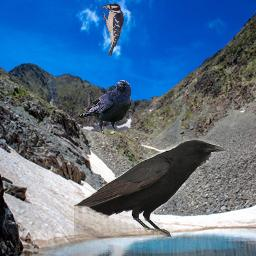Crow: (74, 138, 225, 238), (77, 80, 131, 135)
Woodpecker: (101, 2, 125, 56)
